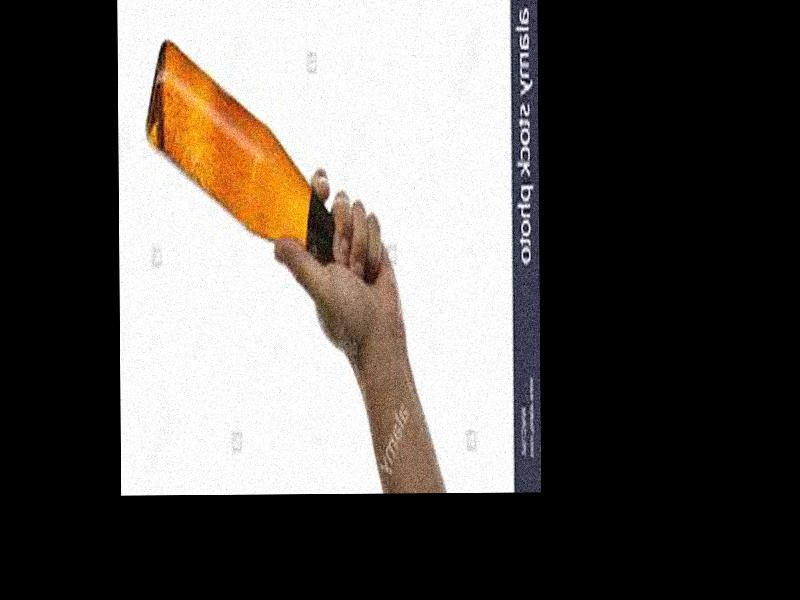Beer: (143, 38, 374, 280)
